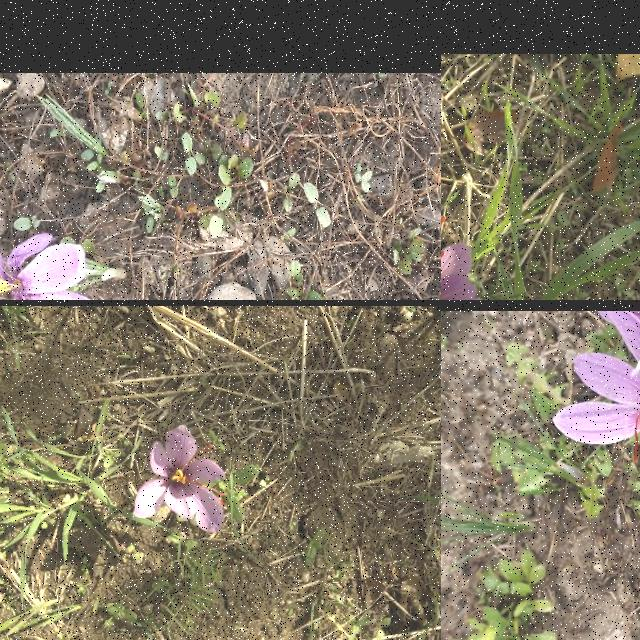flower: (552, 311, 640, 464), (134, 426, 226, 534), (0, 225, 98, 300), (441, 217, 482, 300)
